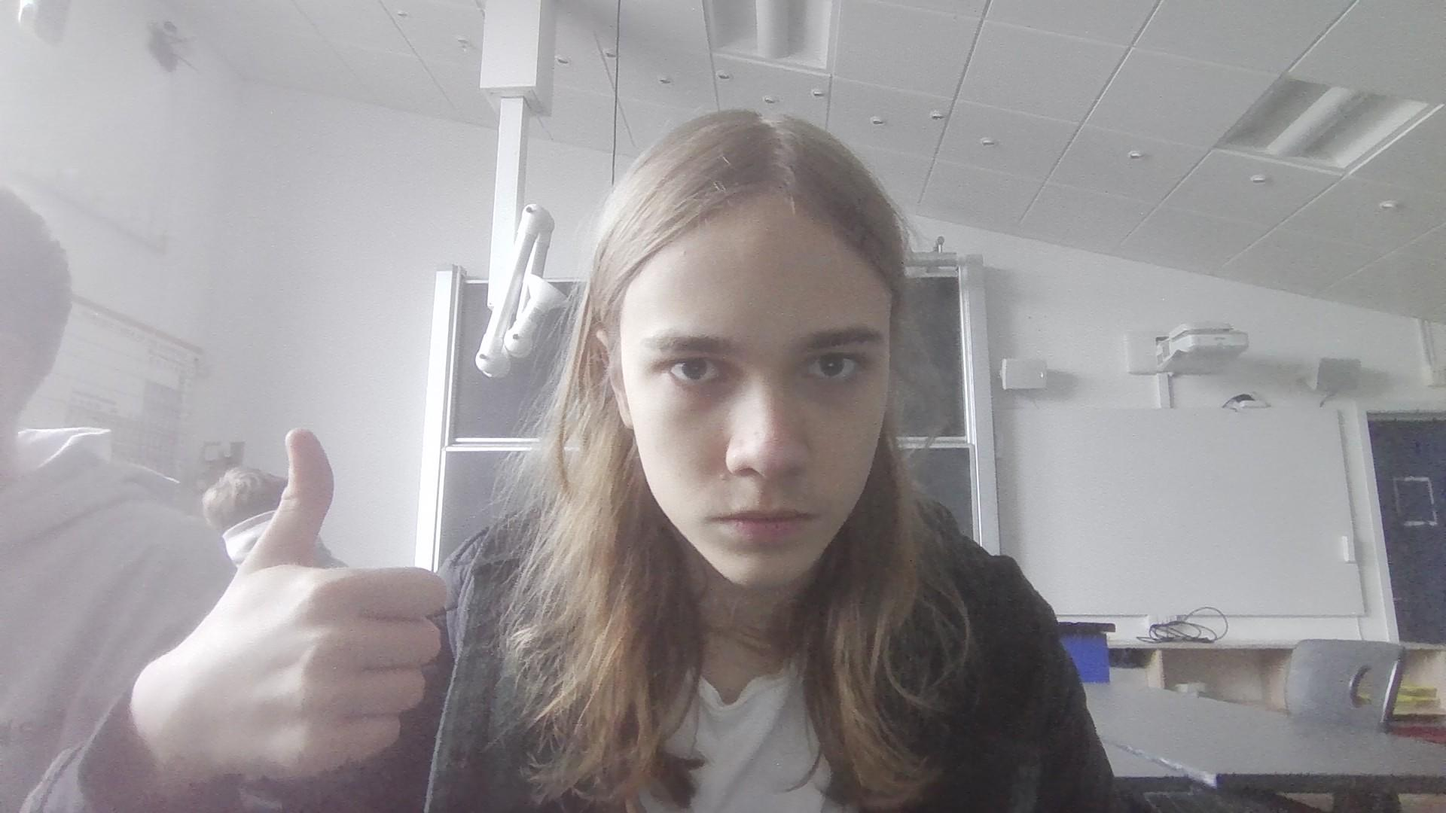thumbs up: (137, 422, 458, 788)
